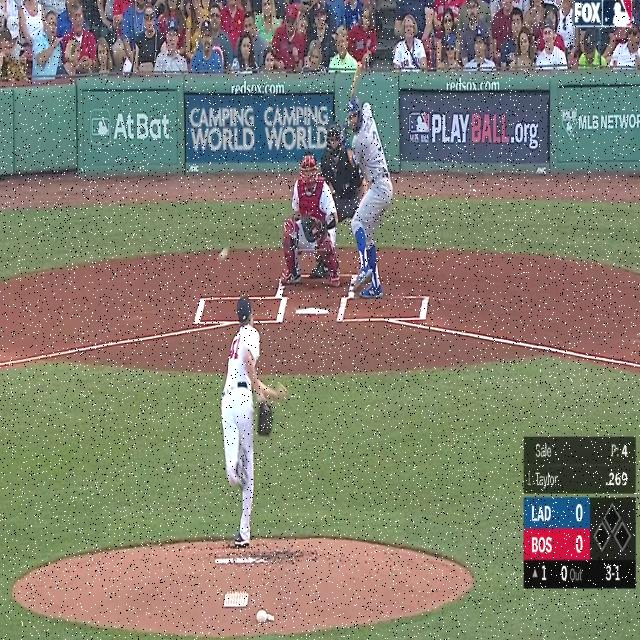baseball: (218, 246, 228, 262)
